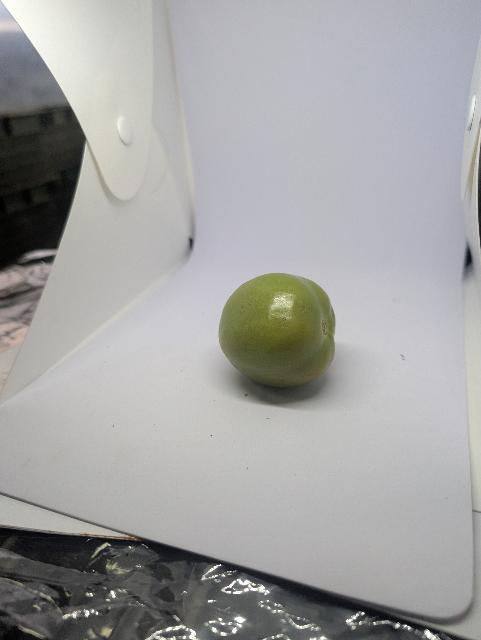green: (218, 271, 339, 392)
